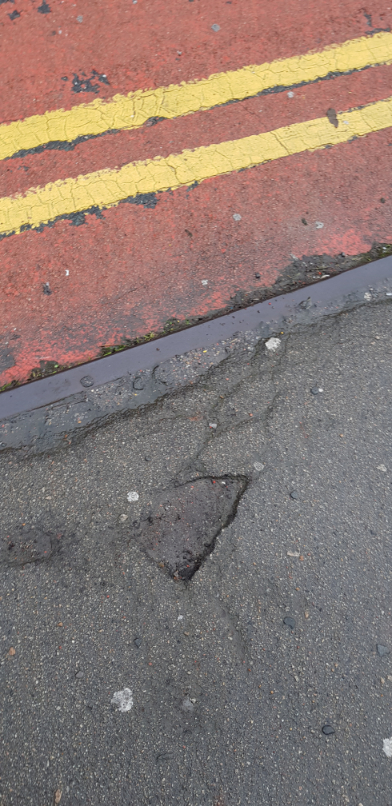pothole: (131, 470, 248, 585)
